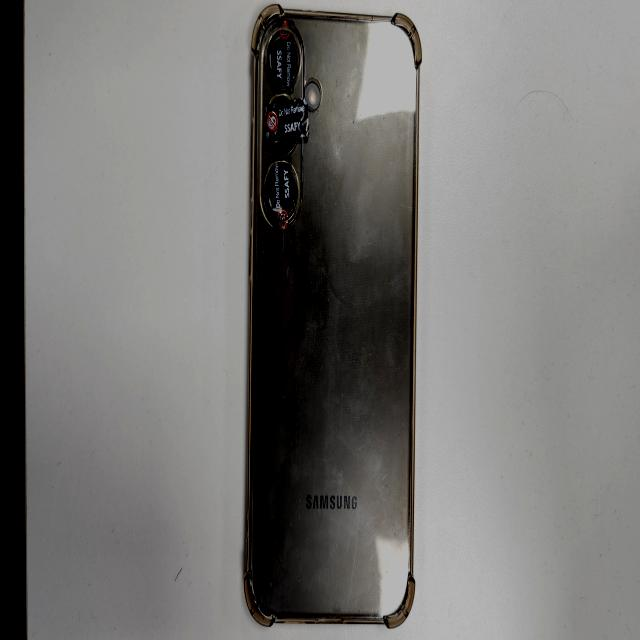phone: (240, 9, 420, 629)
removed_sticker: (264, 99, 308, 144)
sticker: (271, 158, 291, 228), (272, 22, 292, 89)
